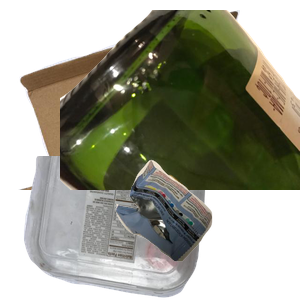cardboard: (16, 10, 256, 190)
glass: (60, 10, 300, 190)
plastic: (21, 156, 226, 300)
trash: (113, 157, 300, 300)
